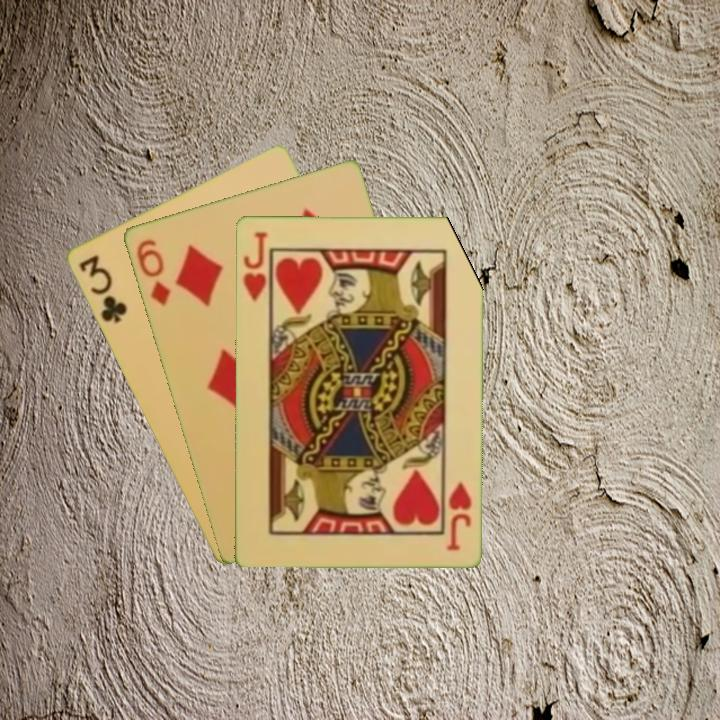3c: (75, 251, 130, 326)
6d: (132, 235, 173, 309)
Jh: (239, 228, 273, 310), (443, 479, 474, 553)
